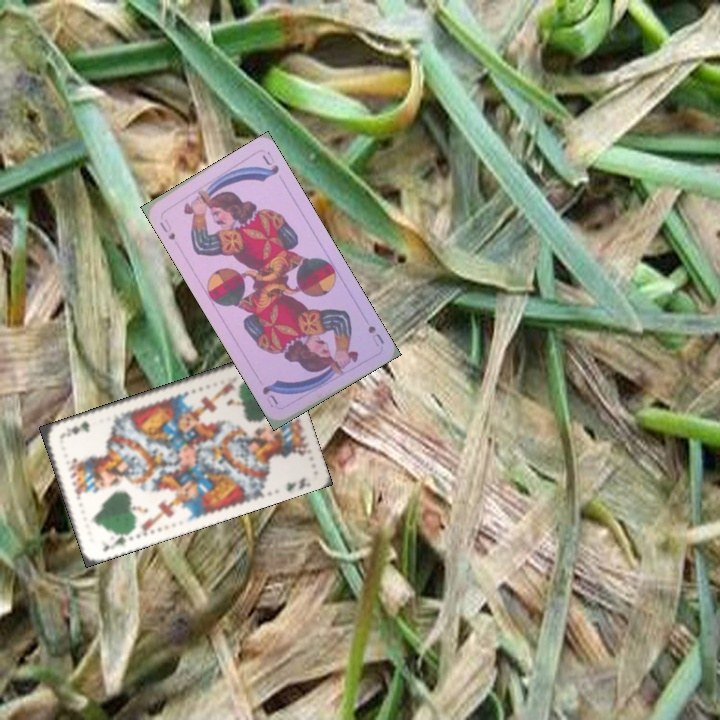GK: (99, 527, 133, 554)
SU: (364, 321, 387, 349), (155, 215, 178, 243)
